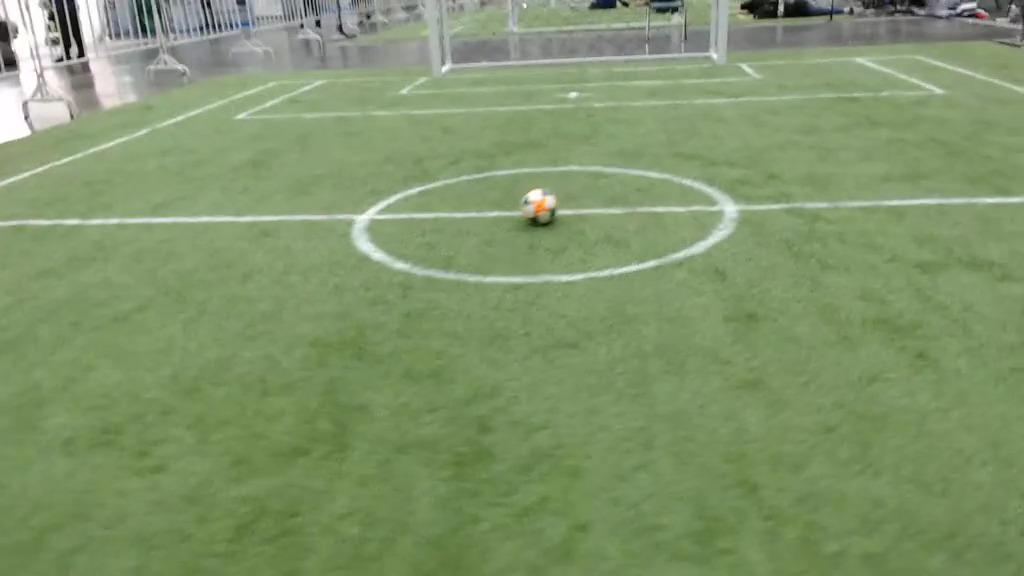ball: (518, 189, 560, 227)
